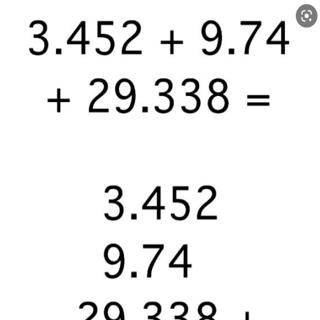.: (128, 268, 141, 280), (224, 46, 237, 56), (55, 45, 63, 60), (131, 211, 138, 224), (141, 104, 149, 114)
2: (82, 78, 114, 115), (193, 184, 222, 224), (118, 19, 144, 57)
3: (22, 15, 50, 61), (177, 73, 204, 119), (97, 180, 124, 226), (151, 75, 177, 120)
4: (164, 237, 196, 283), (66, 15, 93, 60), (140, 183, 168, 223), (264, 17, 293, 55)
5: (92, 18, 117, 60), (168, 182, 193, 222)
7: (235, 14, 265, 58), (140, 238, 164, 283)
8: (200, 74, 233, 117)
9: (97, 240, 129, 284), (199, 15, 225, 55), (114, 76, 138, 117)
